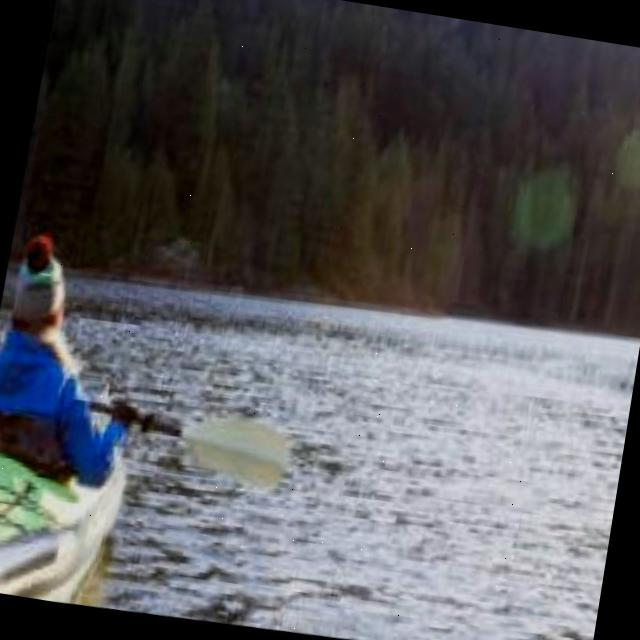kayak: (0, 458, 125, 603)
